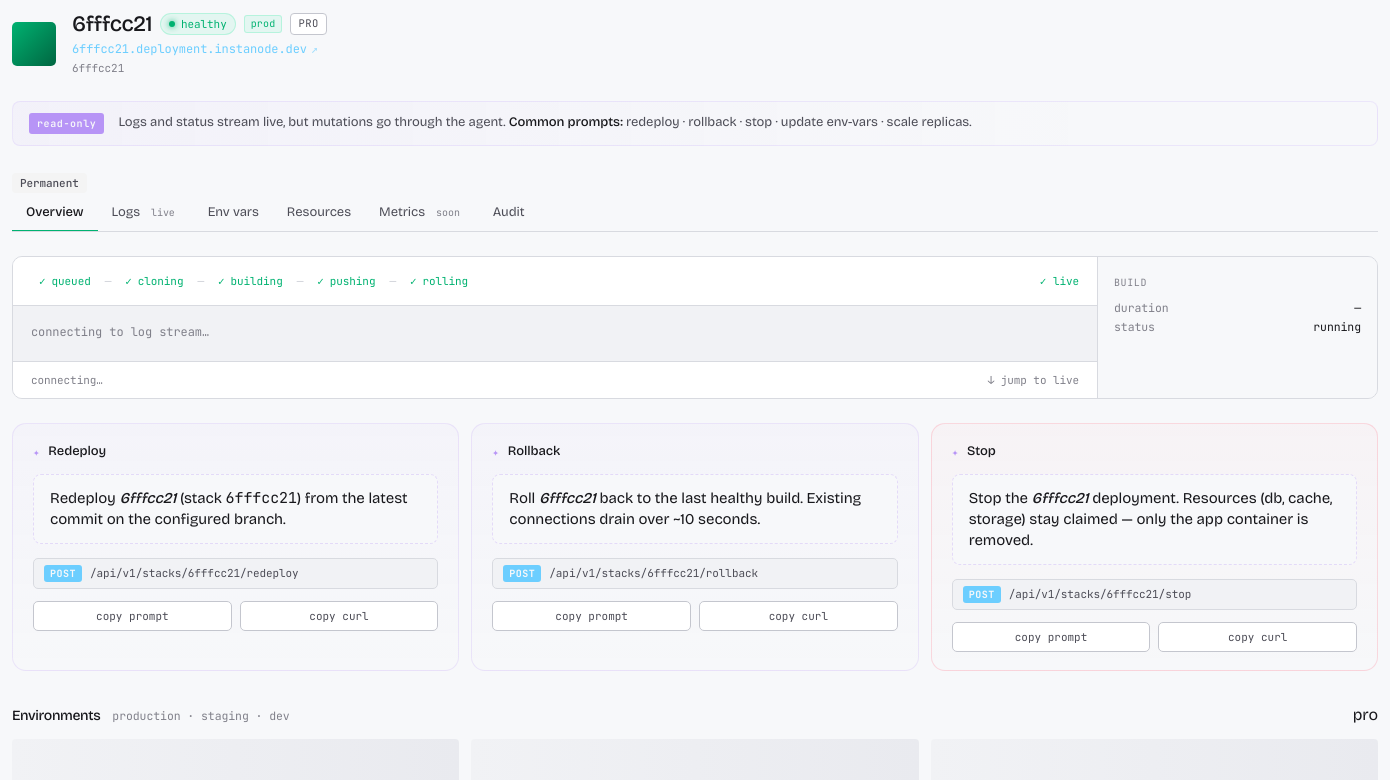
Test: DeployDetailPage — env_vars panel parses + renders real rows › reveals the value when the reveal button is clicked
Click the button "Env vars".
click(233, 213)  # box [194, 194, 273, 232]
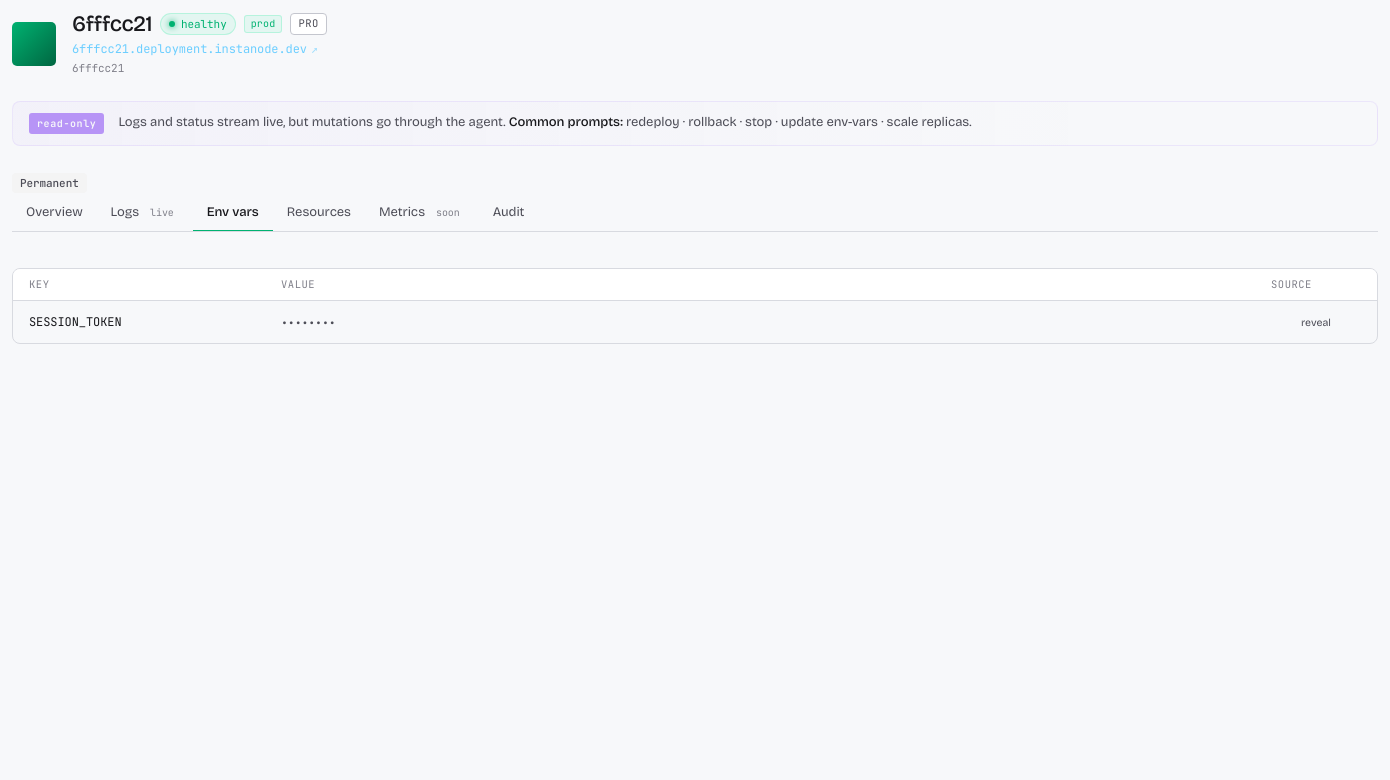
Expected: the element with test id "env-vars-panel" is shown, [12, 256, 1378, 356]
Expected: the text with test id "env-var-value-SESSION_TOKEN" reads "••••••••", [281, 315, 336, 330]
Expected: the button with test id "env-var-reveal-SESSION_TOKEN" is shown
Click the button with test id "env-var-reveal-SESSION_TOKEN".
click(1316, 322)  # box [1271, 314, 1361, 331]
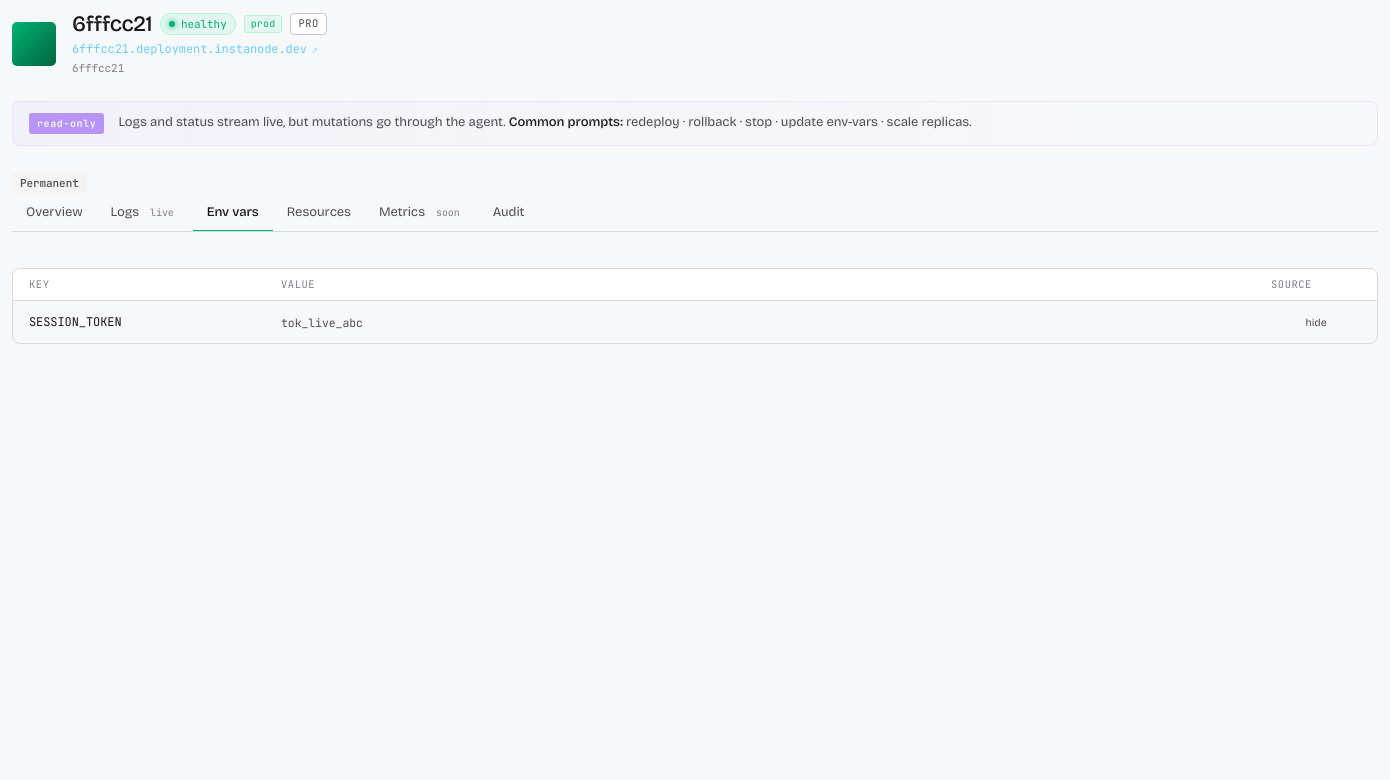
Expected: the text with test id "env-var-value-SESSION_TOKEN" reads "tok_live_abc", [281, 315, 363, 330]
